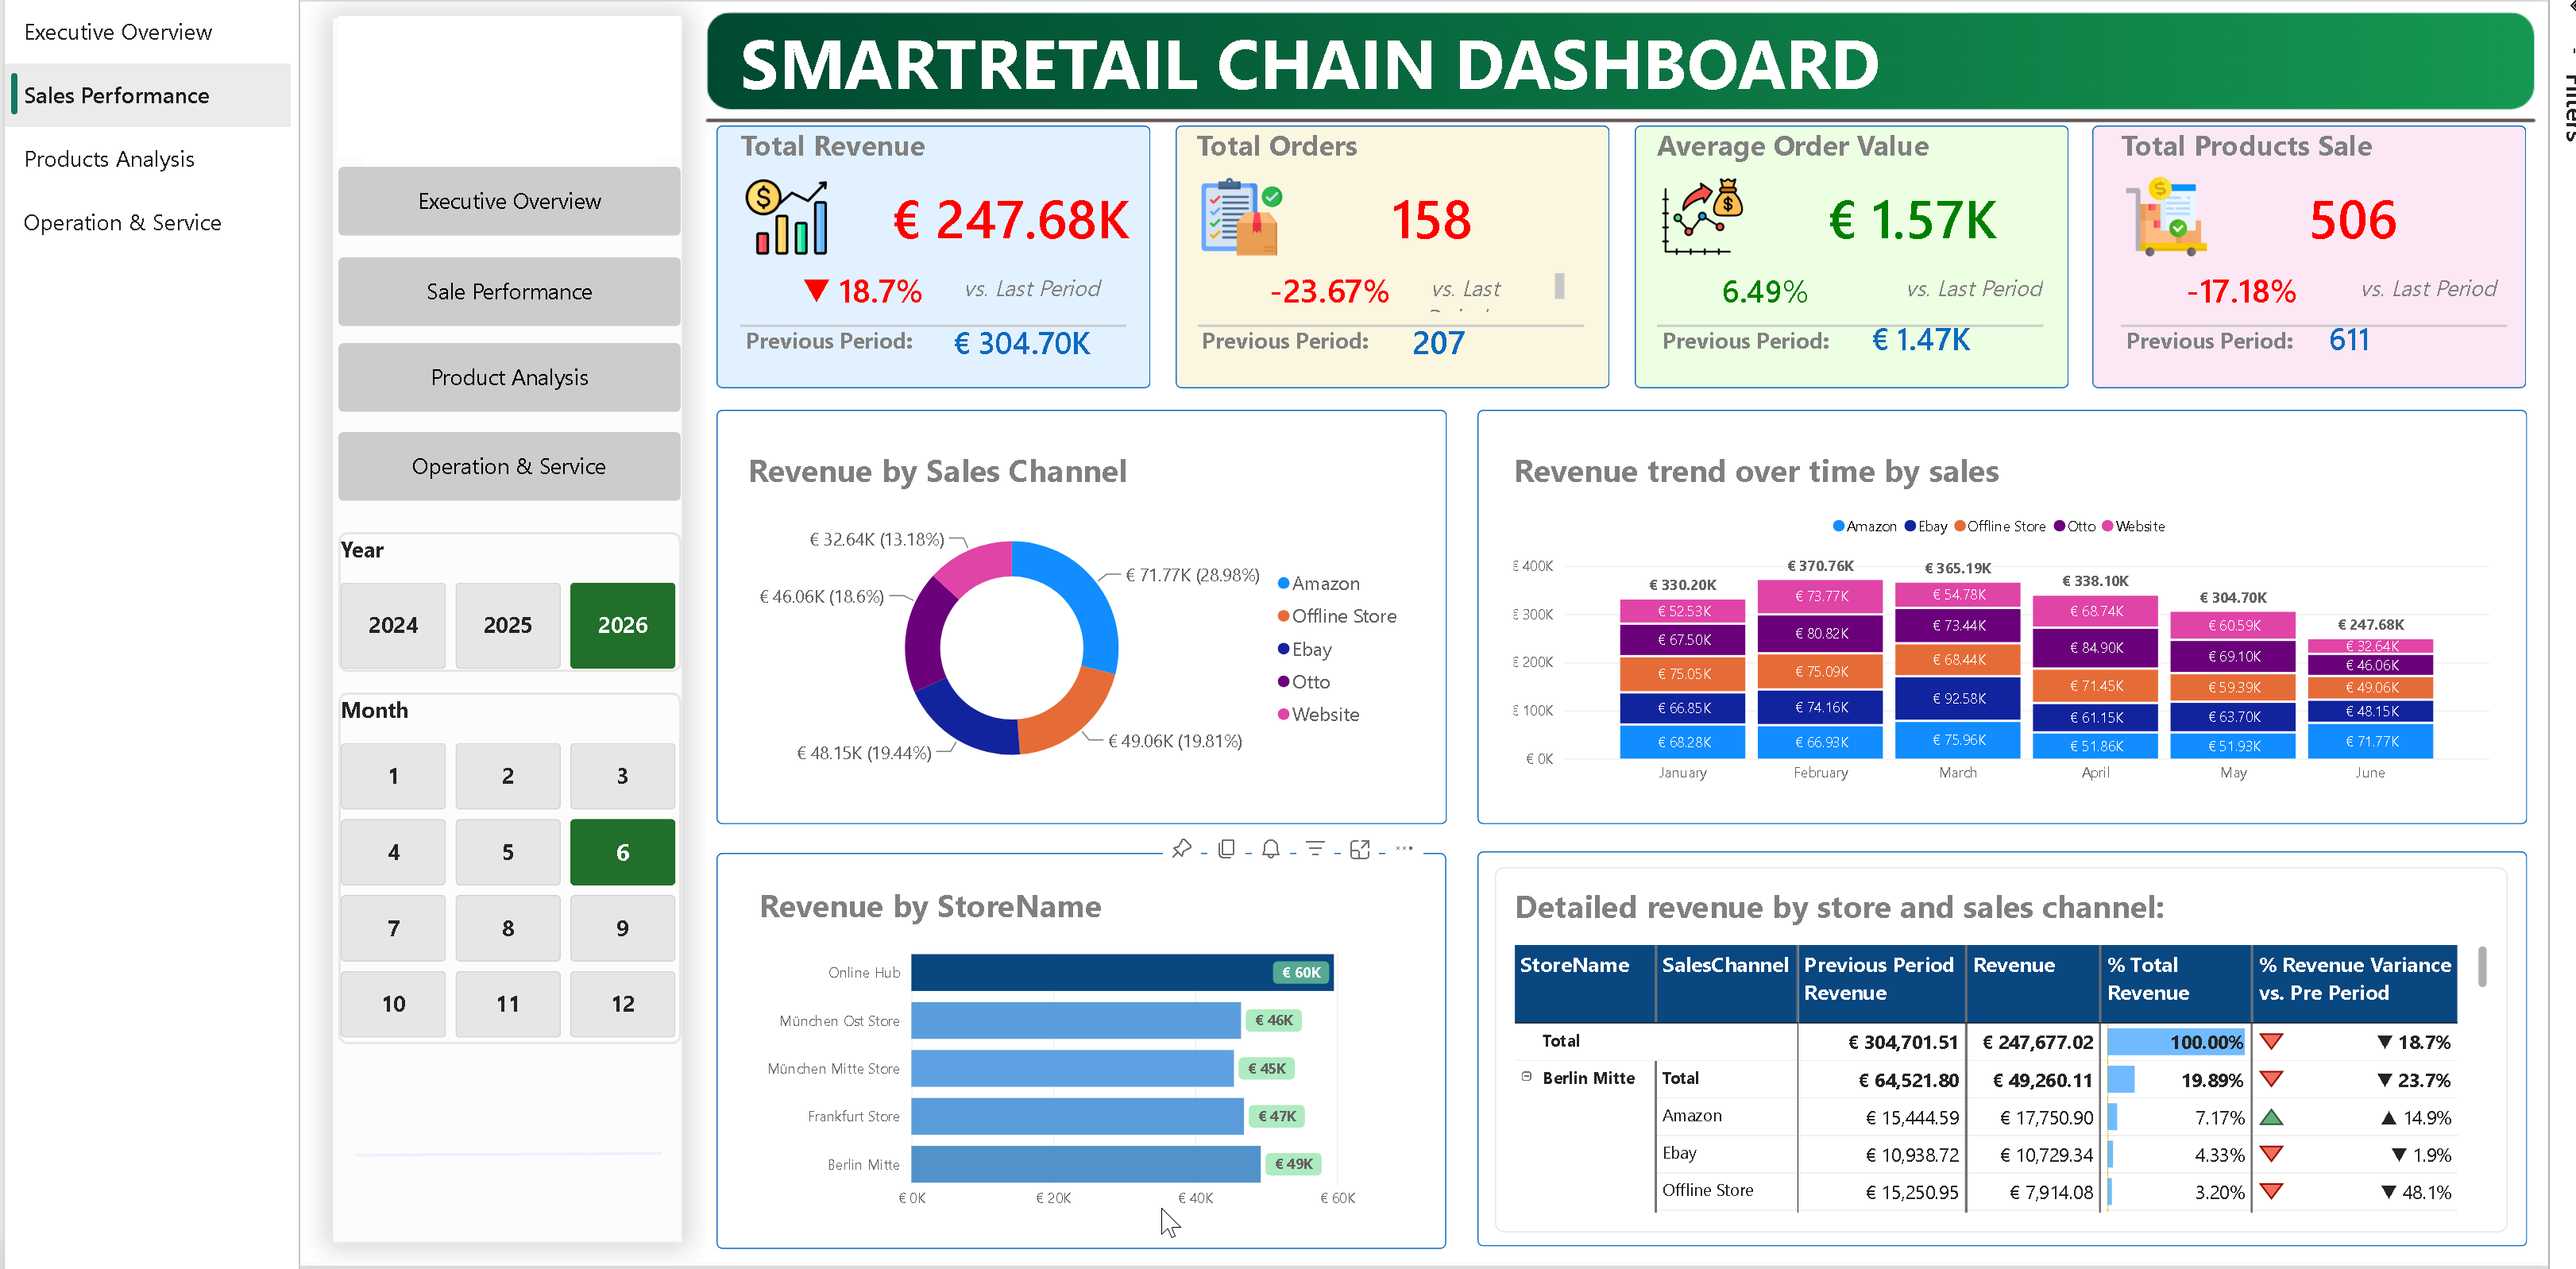

What the dashboard file says about the page in this screenshot:
{"tool":"powerbi","page":{"name":"Sales Performance","canvas":[1920,1080],"ordinal":1},"visuals":[{"type":"shape","box":[355.7,105.5,370.7,224.6],"z":0},{"type":"shape","box":[747.5,105.5,370.7,224.6],"z":1000},{"type":"shape","box":[1139.3,105.5,370.7,224.6],"z":2000},{"type":"shape","box":[1531.2,105.5,370.7,224.6],"z":3000},{"type":"textbox","box":[375.3,12.1,1080.6,78.4],"z":4000},{"type":"textbox","box":[375.3,105.5,226.1,43.7],"z":5000},{"type":"textbox","box":[765.6,105.5,194.4,43.7],"z":6000},{"type":"textbox","box":[1158.9,105.5,254.7,54.3],"z":7000},{"type":"textbox","box":[1555.3,105.5,265.2,54.3],"z":8000},{"type":"image","box":[375.3,149.2,78.4,69.3],"z":9000},{"type":"image","box":[765.6,149.2,78,69],"z":10000},{"type":"image","box":[1158.9,149.2,78,69],"z":11000},{"type":"image","box":[1555.3,149.2,78,69],"z":12000},{"type":"shape","box":[375.3,262.2,330,30.1],"z":13000},{"type":"shape","box":[767.1,262.2,330,30.1],"z":14000},{"type":"shape","box":[1158.9,262.2,330,30.1],"z":15000},{"type":"shape","box":[1555.3,262.2,330,30.1],"z":16000},{"type":"cardVisual","fields":{"Data":["Fact_Sales.Revenue"]},"box":[488.3,149.2,238.1,69.3],"z":17000},{"type":"textbox","box":[375.3,277.3,165.8,34.7],"z":18000},{"type":"textbox","box":[765.6,277.3,167.3,34.7],"z":19000},{"type":"textbox","box":[1158.9,277.3,179.3,34.7],"z":20000},{"type":"textbox","box":[1555.3,277.3,161.3,34.7],"z":21000},{"type":"advancedSlicerVisual","title":"Month ","fields":{"Values":["DimDate.Month Number"]},"box":[33,590.2,292.9,300.6],"z":22000},{"type":"advancedSlicerVisual","fields":{"Values":["DimDate.Year"]},"box":[33,453.1,292.9,119.6],"z":23000},{"type":"cardVisual","fields":{"Data":["Fact_Sales.Previous Period Revenue"]},"box":[541.5,266.2,164.6,49.2],"z":24000},{"type":"cardVisual","fields":{"Data":["Fact_Sales.% Revenue Variance vs. Pre Period"]},"box":[412.9,200.4,149.2,90.4],"z":25000},{"type":"textbox","box":[562.1,232.1,164.3,33.2],"z":26000},{"type":"cardVisual","fields":{"Data":["Fact_Sales.Total Orders"]},"box":[916.3,149.2,104,69.3],"z":27000},{"type":"cardVisual","fields":{"Data":["Fact_Sales.Previous Period Orders"]},"box":[932.9,265.2,145.8,50.3],"z":28000},{"type":"textbox","box":[960,232.1,119.1,33.2],"z":29000},{"type":"cardVisual","fields":{"Data":["Fact_Sales.% Order Variance vs. Pre Period"]},"box":[810.8,200.4,149.2,90.4],"z":30000},{"type":"textbox","box":[1754.2,232.1,131.1,33.2],"z":31000},{"type":"textbox","box":[1366.9,232.1,122.1,30.1],"z":32000},{"type":"cardVisual","fields":{"Data":["Fact_Sales.Average Order Value"]},"box":[1287,149.2,223,69.3],"z":33000},{"type":"cardVisual","fields":{"Data":["Fact_Sales.Previous Period Avg Order Value"]},"box":[1326.2,262.2,145.8,50.3],"z":34000},{"type":"cardVisual","fields":{"Data":["Fact_Sales.% Avg Order Value Variance vs. Pre Period"]},"box":[1198.1,200.4,149.2,90.4],"z":35000},{"type":"cardVisual","fields":{"Data":["Fact_Sales.Total Products Sale"]},"box":[1698.5,149.2,203.5,69.3],"z":36000},{"type":"cardVisual","fields":{"Data":["Fact_Sales.Previous Period Product Sale"]},"box":[1716.5,262.2,145.8,50.3],"z":37000},{"type":"cardVisual","fields":{"Data":["Fact_Sales.% Products Sale Variance vs. Pre Period"]},"box":[1594.5,200.4,149.2,90.4],"z":38000},{"type":"shape","box":[355.7,348.1,623.9,354.2],"z":39000},{"type":"donutChart","title":"Revenue by Sales Channel","fields":{"Category":["Dim_Channel.SalesChannel"],"Y":["Fact_Sales.Revenue"]},"box":[366.2,367.7,593.8,319.5],"z":40000},{"type":"shape","box":[1005.2,348.1,896.7,354.2],"z":41000},{"type":"columnChart","title":"Revenue trend over time by sales","fields":{"Category":["DimDate.Month Name"],"Series":["Dim_Channel.SalesChannel"],"Y":["Fact_Sales.Revenue"]},"box":[1020,367.1,865.7,320],"z":42000},{"type":"shape","box":[355,726.7,623.3,338.3],"z":43000},{"type":"clusteredBarChart","fields":{"Category":["Dim_Store.StoreName"],"Y":["Fact_Sales.Revenue"]},"box":[375.7,740,585,311.7],"z":44000},{"type":"shape","box":[1005.2,726.4,896.7,337.6],"z":45000},{"type":"pivotTable","title":"Detailed revenue by store and sales channel:","fields":{"Rows":["Dim_Store.StoreName","Dim_Channel.SalesChannel"],"Values":["Fact_Sales.Previous Period Revenue","Fact_Sales.Revenue","Fact_Sales.% Total Revenue","Fact_Sales.% Revenue Variance vs. Pre Period"]},"box":[1020.3,740,865.1,312],"z":46000},{"type":"actionButton","box":[33.2,141.7,292.4,58.8],"z":47000},{"type":"actionButton","box":[33.2,218.5,292.4,58.8],"z":48000},{"type":"actionButton","box":[33.2,292.4,292.4,58.8],"z":49000},{"type":"actionButton","box":[33.2,367.7,292.4,58.8],"z":50000},{"type":"textbox","box":[33.2,12.1,292.4,120.6],"z":51000}]}

Visuals, with their boxes on the page's 1920x1080 design canvas (x1, y1, x2, y2). These are canvas units, not pixel positions in the 2576x1269 screenshot, which may show the page scaled, cropped or inside an application window:
shape: {"x1": 356, "y1": 106, "x2": 726, "y2": 330}
shape: {"x1": 748, "y1": 106, "x2": 1118, "y2": 330}
shape: {"x1": 1139, "y1": 106, "x2": 1510, "y2": 330}
shape: {"x1": 1531, "y1": 106, "x2": 1902, "y2": 330}
textbox: {"x1": 375, "y1": 12, "x2": 1456, "y2": 90}
textbox: {"x1": 375, "y1": 106, "x2": 601, "y2": 149}
textbox: {"x1": 766, "y1": 106, "x2": 960, "y2": 149}
textbox: {"x1": 1159, "y1": 106, "x2": 1414, "y2": 160}
textbox: {"x1": 1555, "y1": 106, "x2": 1820, "y2": 160}
image: {"x1": 375, "y1": 149, "x2": 454, "y2": 218}
image: {"x1": 766, "y1": 149, "x2": 844, "y2": 218}
image: {"x1": 1159, "y1": 149, "x2": 1237, "y2": 218}
image: {"x1": 1555, "y1": 149, "x2": 1633, "y2": 218}
shape: {"x1": 375, "y1": 262, "x2": 705, "y2": 292}
shape: {"x1": 767, "y1": 262, "x2": 1097, "y2": 292}
shape: {"x1": 1159, "y1": 262, "x2": 1489, "y2": 292}
shape: {"x1": 1555, "y1": 262, "x2": 1885, "y2": 292}
cardVisual - Fact_Sales.Revenue: {"x1": 488, "y1": 149, "x2": 726, "y2": 218}
textbox: {"x1": 375, "y1": 277, "x2": 541, "y2": 312}
textbox: {"x1": 766, "y1": 277, "x2": 933, "y2": 312}
textbox: {"x1": 1159, "y1": 277, "x2": 1338, "y2": 312}
textbox: {"x1": 1555, "y1": 277, "x2": 1717, "y2": 312}
"Month " advancedSlicerVisual: {"x1": 33, "y1": 590, "x2": 326, "y2": 891}
advancedSlicerVisual - DimDate.Year: {"x1": 33, "y1": 453, "x2": 326, "y2": 573}
cardVisual - Fact_Sales.Previous Period Revenue: {"x1": 542, "y1": 266, "x2": 706, "y2": 315}
cardVisual - Fact_Sales.% Revenue Variance vs. Pre Period: {"x1": 413, "y1": 200, "x2": 562, "y2": 291}
textbox: {"x1": 562, "y1": 232, "x2": 726, "y2": 265}
cardVisual - Fact_Sales.Total Orders: {"x1": 916, "y1": 149, "x2": 1020, "y2": 218}
cardVisual - Fact_Sales.Previous Period Orders: {"x1": 933, "y1": 265, "x2": 1079, "y2": 316}
textbox: {"x1": 960, "y1": 232, "x2": 1079, "y2": 265}
cardVisual - Fact_Sales.% Order Variance vs. Pre Period: {"x1": 811, "y1": 200, "x2": 960, "y2": 291}
textbox: {"x1": 1754, "y1": 232, "x2": 1885, "y2": 265}
textbox: {"x1": 1367, "y1": 232, "x2": 1489, "y2": 262}
cardVisual - Fact_Sales.Average Order Value: {"x1": 1287, "y1": 149, "x2": 1510, "y2": 218}
cardVisual - Fact_Sales.Previous Period Avg Order Value: {"x1": 1326, "y1": 262, "x2": 1472, "y2": 312}
cardVisual - Fact_Sales.% Avg Order Value Variance vs. Pre Period: {"x1": 1198, "y1": 200, "x2": 1347, "y2": 291}
cardVisual - Fact_Sales.Total Products Sale: {"x1": 1698, "y1": 149, "x2": 1902, "y2": 218}
cardVisual - Fact_Sales.Previous Period Product Sale: {"x1": 1716, "y1": 262, "x2": 1862, "y2": 312}
cardVisual - Fact_Sales.% Products Sale Variance vs. Pre Period: {"x1": 1594, "y1": 200, "x2": 1744, "y2": 291}
shape: {"x1": 356, "y1": 348, "x2": 980, "y2": 702}
"Revenue by Sales Channel" donutChart: {"x1": 366, "y1": 368, "x2": 960, "y2": 687}
shape: {"x1": 1005, "y1": 348, "x2": 1902, "y2": 702}
"Revenue trend over time by sales" columnChart: {"x1": 1020, "y1": 367, "x2": 1886, "y2": 687}
shape: {"x1": 355, "y1": 727, "x2": 978, "y2": 1065}
clusteredBarChart - Dim_Store.StoreName x Fact_Sales.Revenue: {"x1": 376, "y1": 740, "x2": 961, "y2": 1052}
shape: {"x1": 1005, "y1": 726, "x2": 1902, "y2": 1064}
"Detailed revenue by store and sales channel:" pivotTable: {"x1": 1020, "y1": 740, "x2": 1885, "y2": 1052}
actionButton: {"x1": 33, "y1": 142, "x2": 326, "y2": 200}
actionButton: {"x1": 33, "y1": 218, "x2": 326, "y2": 277}
actionButton: {"x1": 33, "y1": 292, "x2": 326, "y2": 351}
actionButton: {"x1": 33, "y1": 368, "x2": 326, "y2": 426}
textbox: {"x1": 33, "y1": 12, "x2": 326, "y2": 133}
